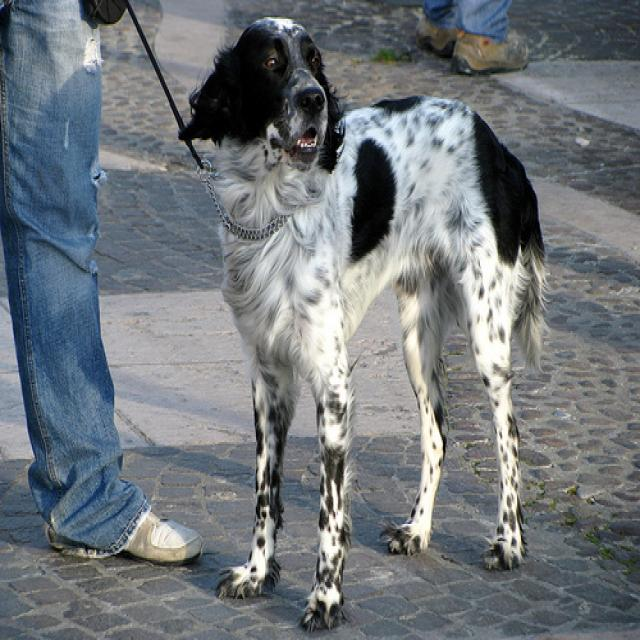dog-english_setter: (172, 14, 552, 637)
